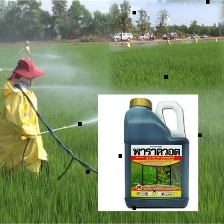insecticide: (118, 94, 192, 211)
